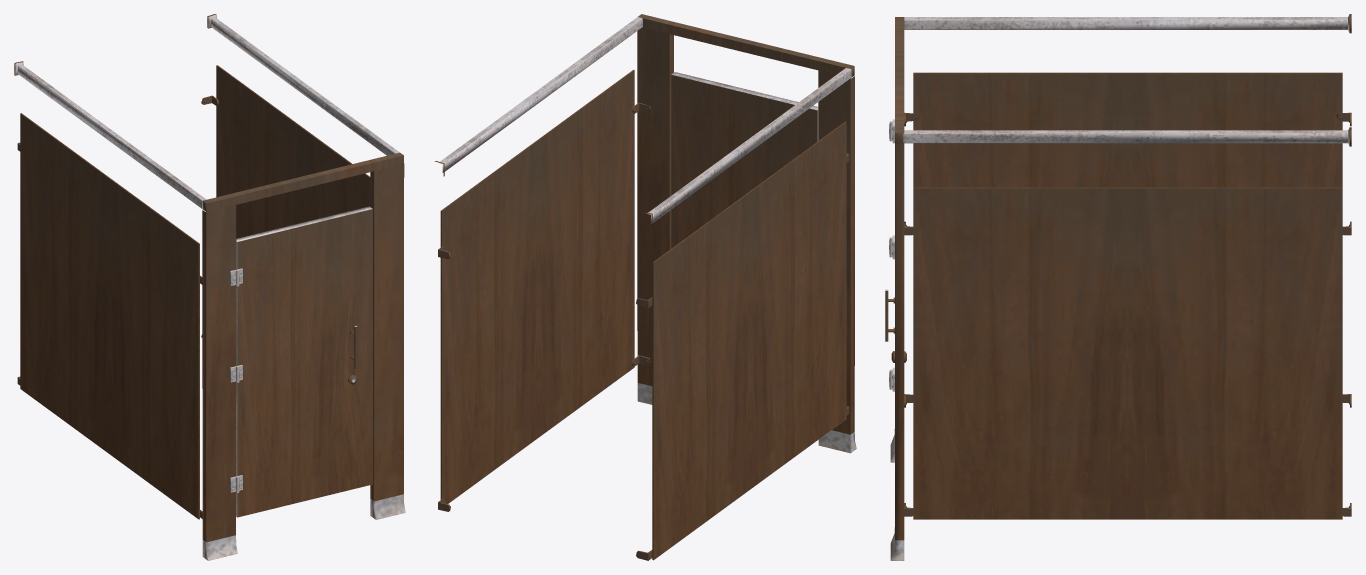
File: bathroom_stall_a.glb
3 views of the same model, side by side, from view 1: azimuth 30°, elevation 25°; view 2: azimuth 150°, elevation 25°; view 3: azimuth 270°, elevation 25° (orthographic). The views are drawn at different scales.
Parts seen in each view (by area): view 1: bathroom_stall_a; view 2: bathroom_stall_a; view 3: bathroom_stall_a.
Part boxes in pixels (box(x1,y1,x2,y2)): bathroom_stall_a: box(14, 14, 405, 560); bathroom_stall_a: box(435, 14, 856, 560); bathroom_stall_a: box(885, 14, 1351, 560).
Bounding box in the file's own units: 1.53 × 2.6 × 2.55.
1 material, 1 textured.
